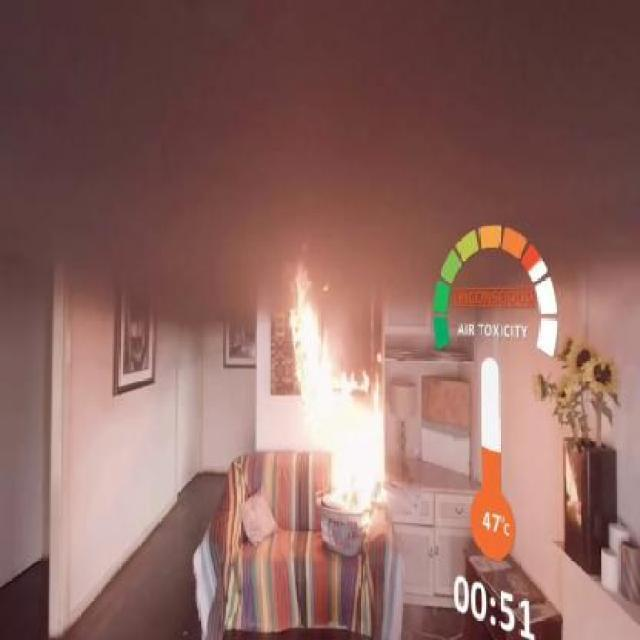fire: (286, 257, 391, 554)
smoke: (123, 19, 542, 232)
